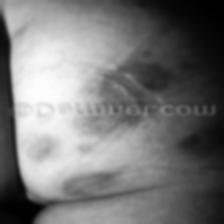Unclassified: (17, 119, 224, 195), (56, 56, 190, 100)
